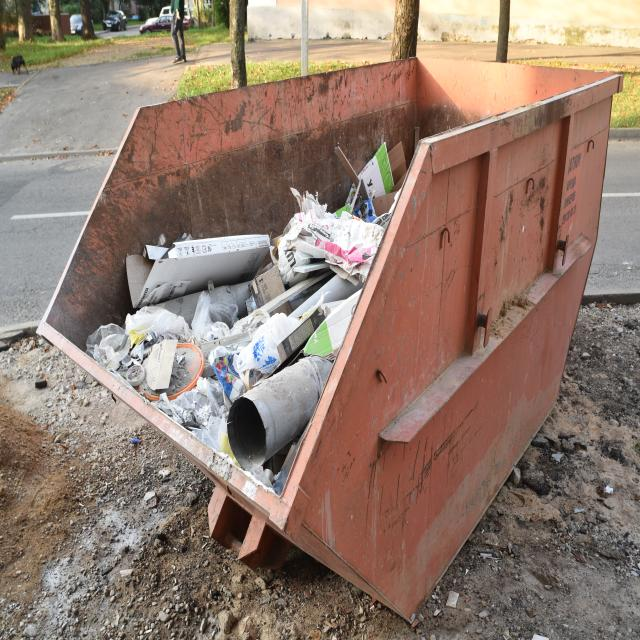entulho: (226, 346, 343, 474), (126, 231, 272, 308), (290, 187, 382, 282), (236, 298, 323, 385), (266, 210, 330, 296), (301, 288, 364, 367), (345, 142, 403, 215), (136, 342, 206, 402), (178, 297, 234, 355), (125, 298, 187, 348), (86, 323, 129, 367)
